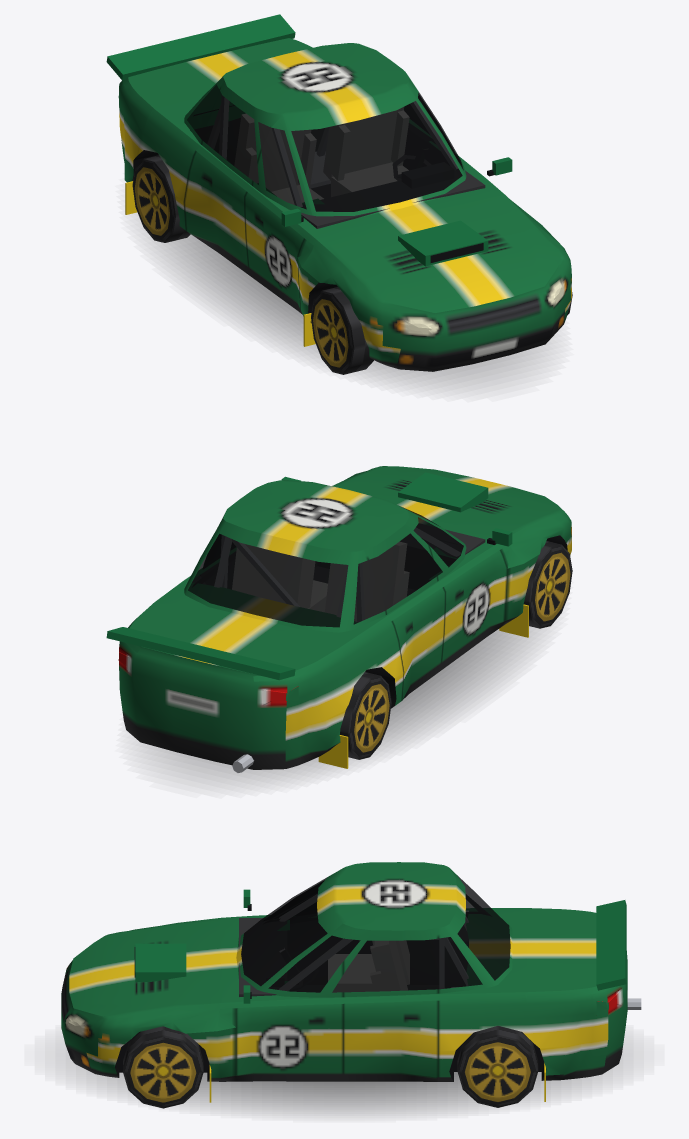
File: pavio.glb
3 views of the same model, one above another, from view 1: azimuth 30°, elevation 25°; view 2: azimuth 150°, elevation 25°; view 3: azimuth 270°, elevation 25° (orthographic). The views are drawn at different scales.
Visible parts, largest first — view 1: Carroceria, Interior, Capo_malha, Sombra, Tampa_malha, Porta_TD_malha, Porta_D_malha, Roda_DD, Roda_TD, Porta_E_malha, Farol; view 2: Carroceria, Interior, Tampa_malha, Sombra, Capo_malha, Porta_TD_malha, Porta_D_malha, Roda_TD, Roda_DD, Lanterna; view 3: Carroceria, Porta_TE_malha, Interior, Capo_malha, Porta_E_malha, Sombra, Tampa_malha, Roda_TE, Roda_DE, Porta_D_malha.
Boxes of the visible parts, box(x1,y1,x2,y2) form: Carroceria: box(118, 43, 571, 371); Interior: box(194, 96, 485, 228); Capo_malha: box(324, 196, 561, 312); Sombra: box(153, 235, 543, 386); Tampa_malha: box(106, 14, 311, 106); Porta_TD_malha: box(184, 80, 282, 266); Porta_D_malha: box(244, 115, 312, 309); Roda_DD: box(311, 287, 373, 374); Roda_TD: box(132, 155, 190, 242); Porta_E_malha: box(407, 85, 512, 177); Farol: box(397, 282, 566, 335); Carroceria: box(118, 466, 571, 772); Interior: box(193, 524, 485, 621); Tampa_malha: box(106, 604, 334, 681); Sombra: box(145, 627, 536, 782); Capo_malha: box(337, 466, 561, 534); Porta_TD_malha: box(364, 511, 445, 700); Porta_D_malha: box(408, 511, 512, 661); Roda_TD: box(340, 672, 391, 759); Roda_DD: box(523, 541, 572, 628); Lanterna: box(118, 652, 298, 705); Carroceria: box(61, 862, 641, 1102); Porta_TE_malha: box(343, 924, 438, 1077); Interior: box(239, 894, 490, 996); Capo_malha: box(74, 920, 219, 1016); Porta_E_malha: box(236, 925, 343, 1075); Sombra: box(65, 1049, 623, 1113); Tampa_malha: box(526, 900, 626, 994); Roda_TE: box(457, 1026, 538, 1107); Roda_DE: box(123, 1026, 203, 1108); Porta_D_malha: box(243, 881, 323, 920).
Bounding box in the file's own units: 2.44 × 1.35 × 4.9.
Materials: 13 (5 with a texture image).
